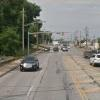Car: (15, 52, 40, 73)
